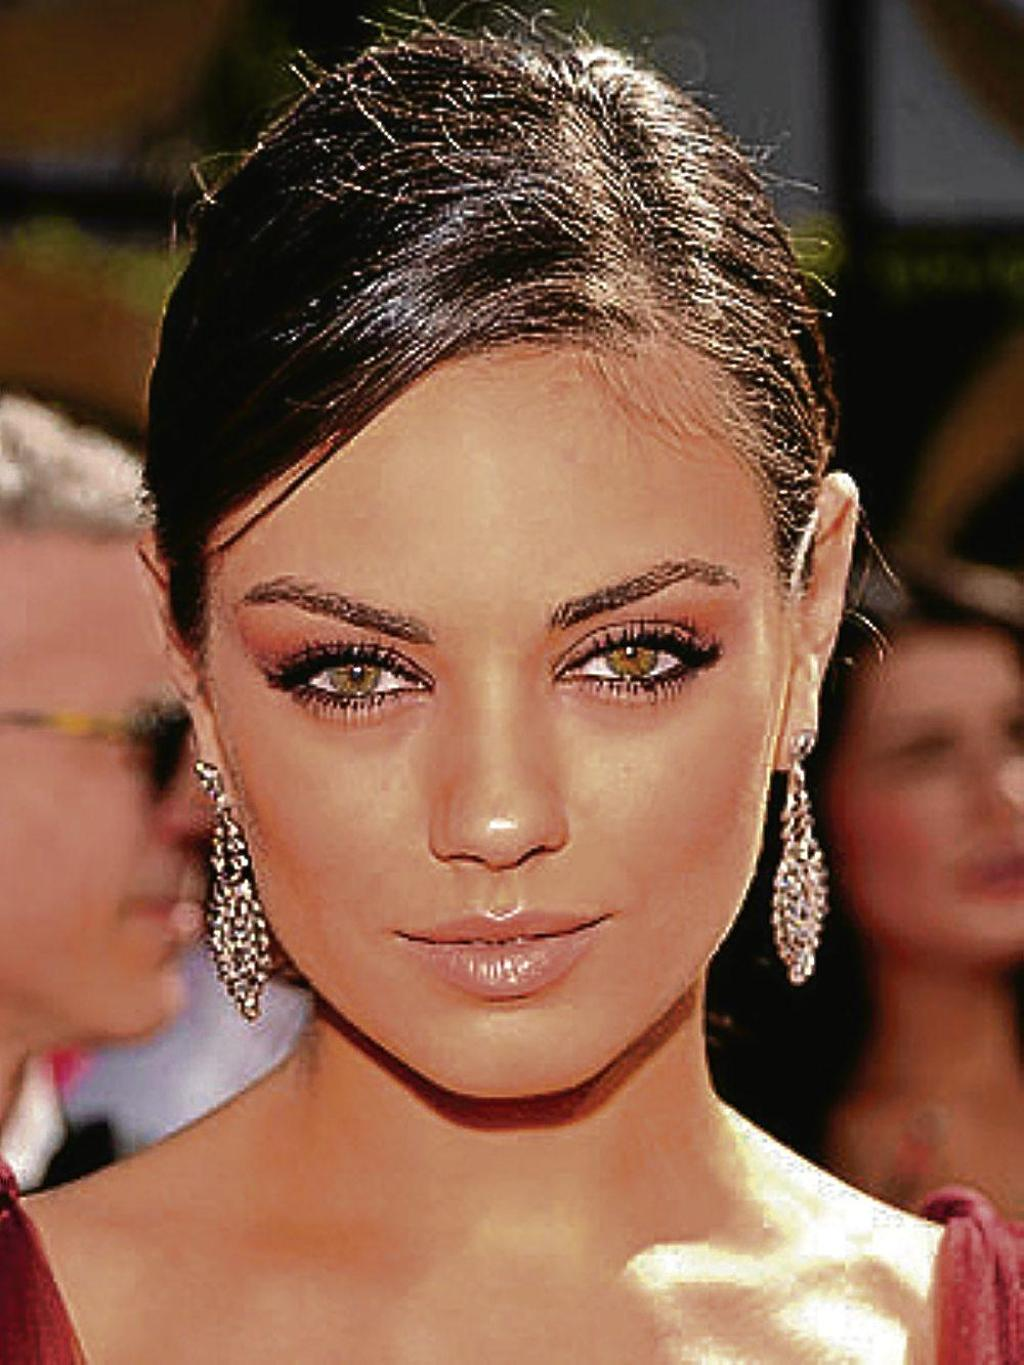face: (197, 304, 789, 1099), (8, 533, 205, 1037), (843, 603, 1024, 955)
